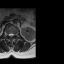CCS_normal: (10, 32, 12, 38)
LFS_stenosis: (13, 32, 15, 37)
LLS_normal: (12, 32, 13, 37)
RFS_normal: (7, 32, 8, 36)
RLS_normal: (8, 32, 10, 37)
